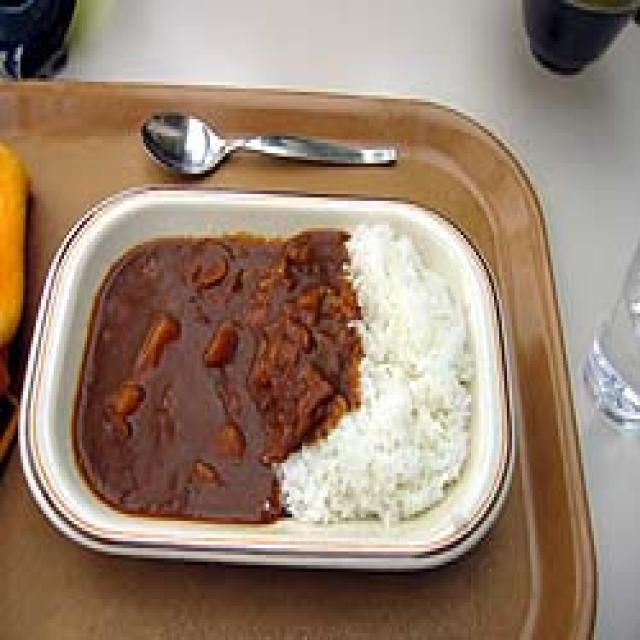牛肉菜式: (28, 184, 492, 555)
